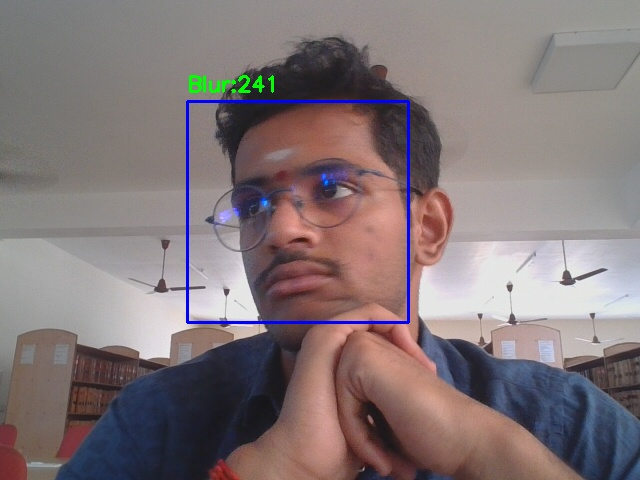real: (187, 101, 408, 322)
